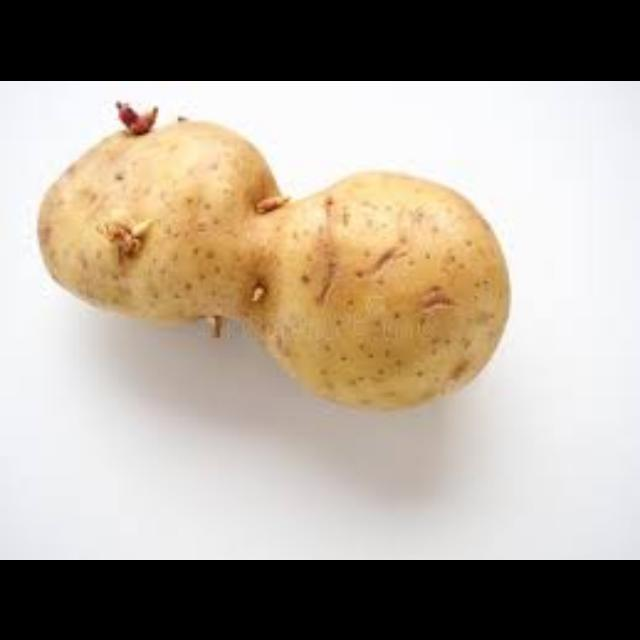Sprouted potato: (22, 84, 524, 423)
